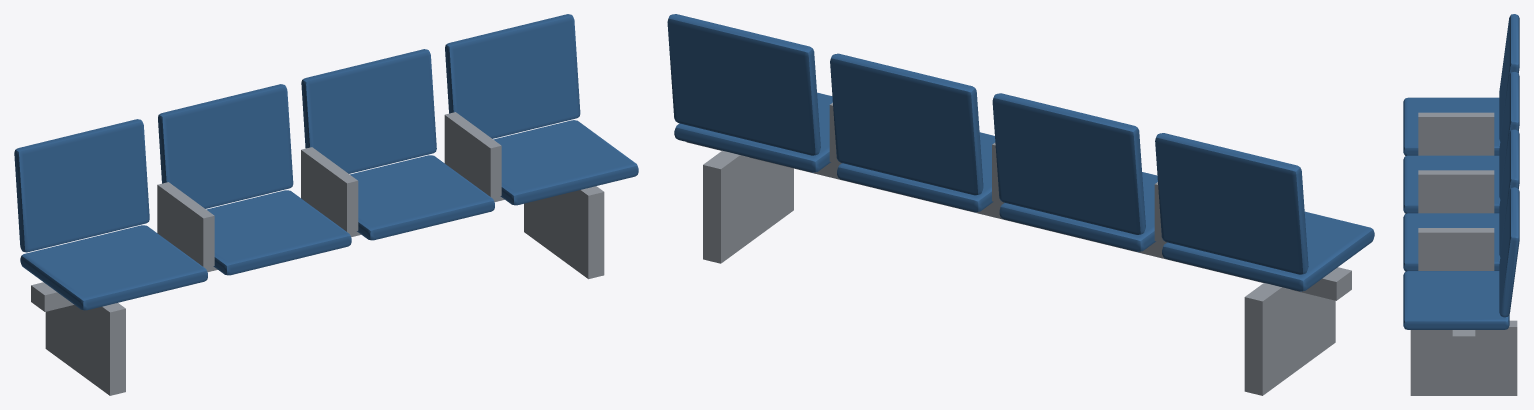
File: bench-row.glb
The picture shows the model from 3 angles, left to right: view 1: azimuth 30°, elevation 25°; view 2: azimuth 150°, elevation 25°; view 3: azimuth 270°, elevation 25°; orthographic projection. The views are drawn at different scales.
Visible parts, largest first — view 1: part-bench-seat, part-steel; view 2: part-bench-seat, part-steel; view 3: part-bench-seat, part-steel.
Boxes of the visible parts, x1=… form: part-bench-seat: x1=14, y1=14, x2=638, y2=310; part-steel: x1=31, y1=112, x2=604, y2=395; part-bench-seat: x1=667, y1=14, x2=1374, y2=291; part-steel: x1=686, y1=102, x2=1351, y2=395; part-bench-seat: x1=1403, y1=14, x2=1519, y2=329; part-steel: x1=1410, y1=112, x2=1517, y2=395.
Bounding box in the file's own units: 72 × 24.97 × 15.34.
